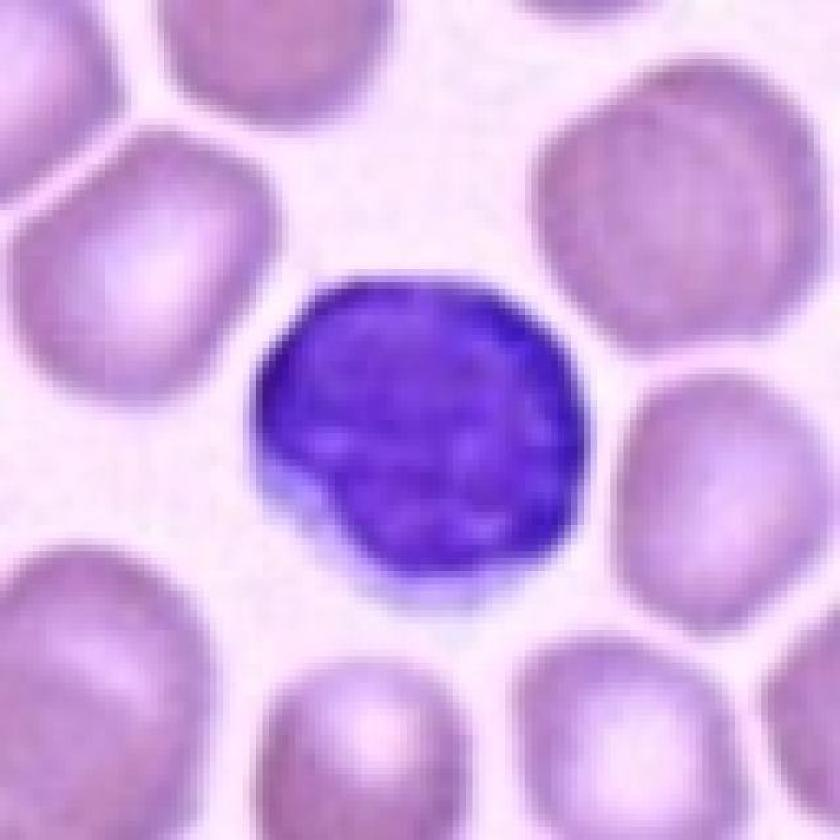lymphocyte: (235, 268, 600, 625)
